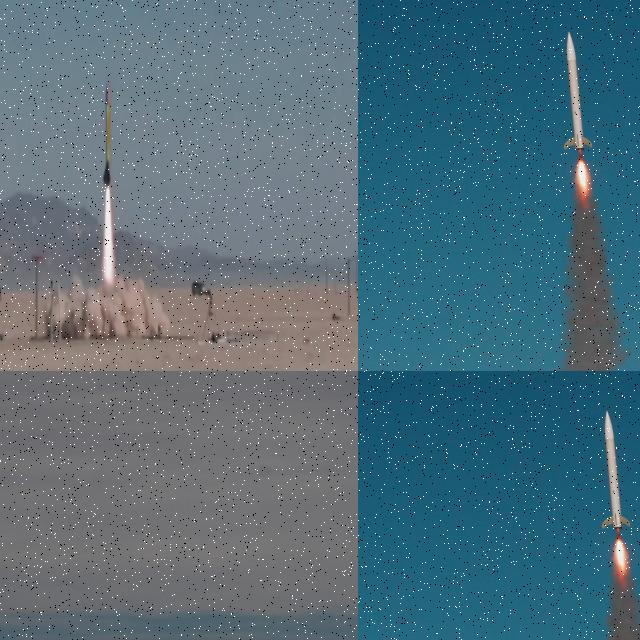Rocket: (563, 30, 593, 152), (601, 410, 631, 530), (103, 82, 112, 192)
